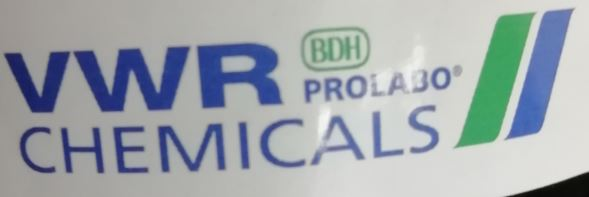VWR: (1, 5, 578, 178)
